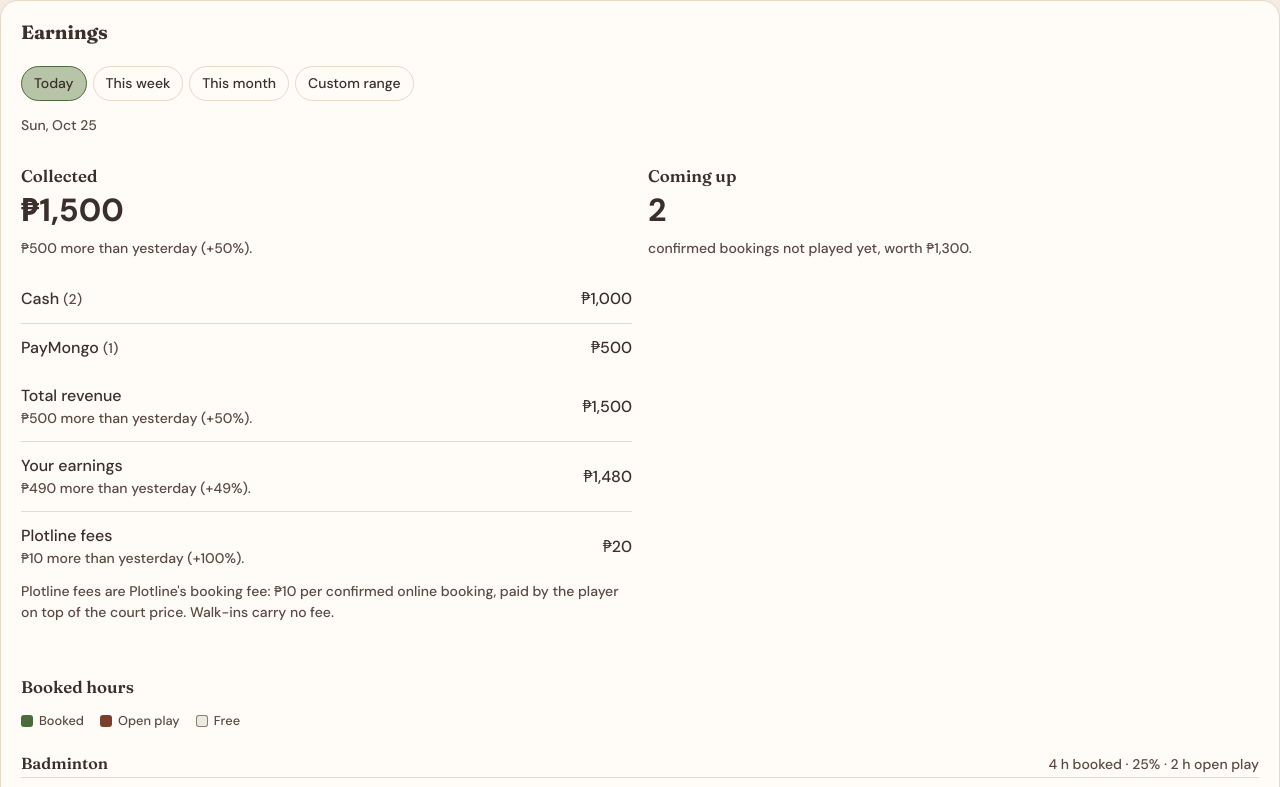
Test case: EarningsSection › revenue split (T11.14) › compares with last week on the week view
Expected: the 1st text "₱1,500" is shown, [21,189,124,231]
Click the button "This week" at (138, 84), box [93,66,183,101]
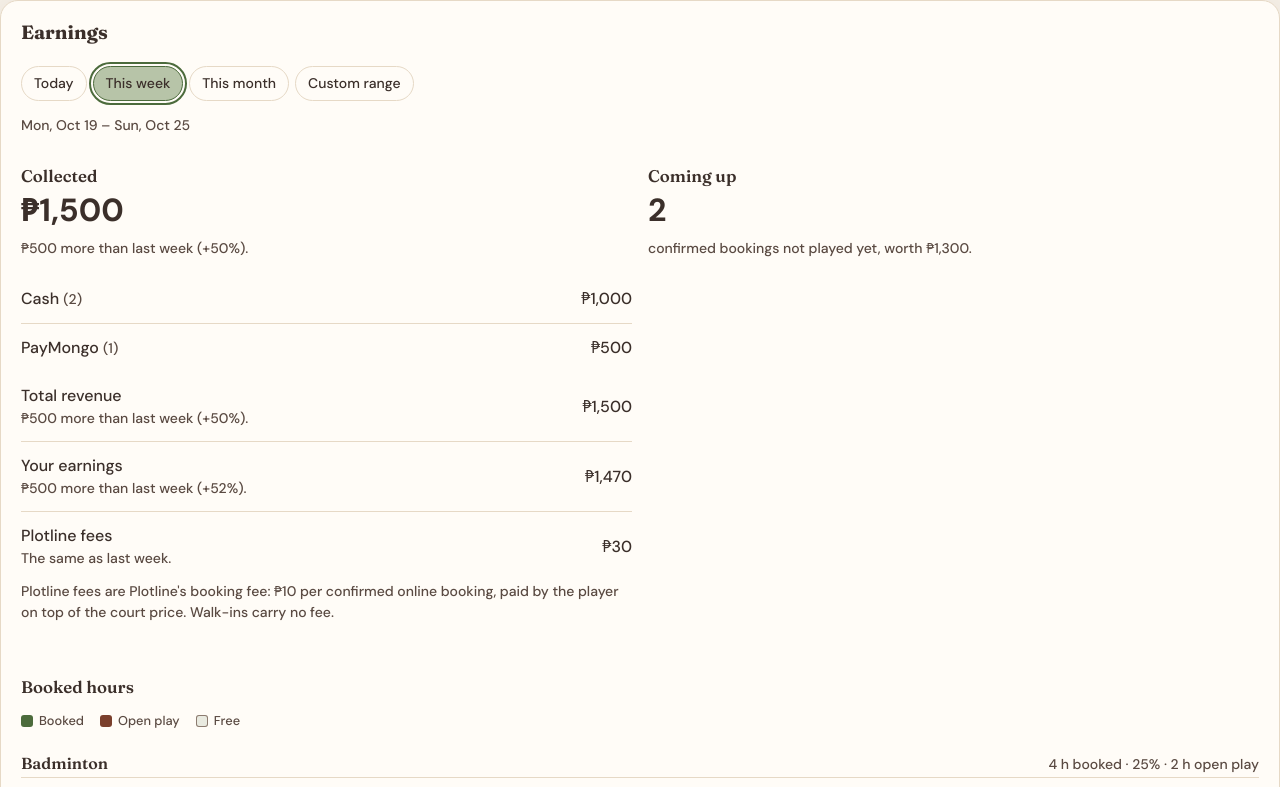
Expected: the list item "Your earnings ₱500 more than last week (+52%). ₱1,470" is shown, [21,441,632,511]
Expected: the list item "Plotline fees The same as last week. ₱30" is shown, [21,511,632,581]
